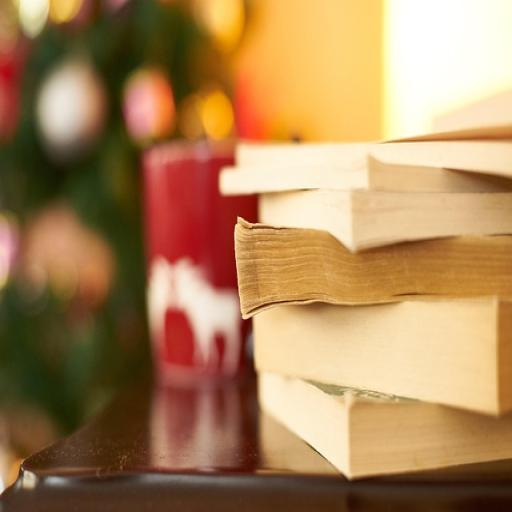phone: (143, 143, 258, 382)
